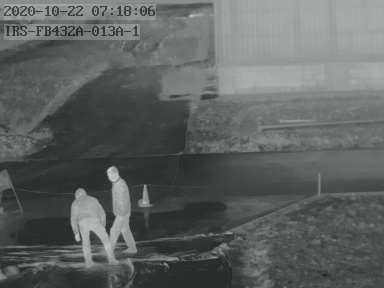person: (70, 187, 116, 263), (106, 165, 138, 254)
